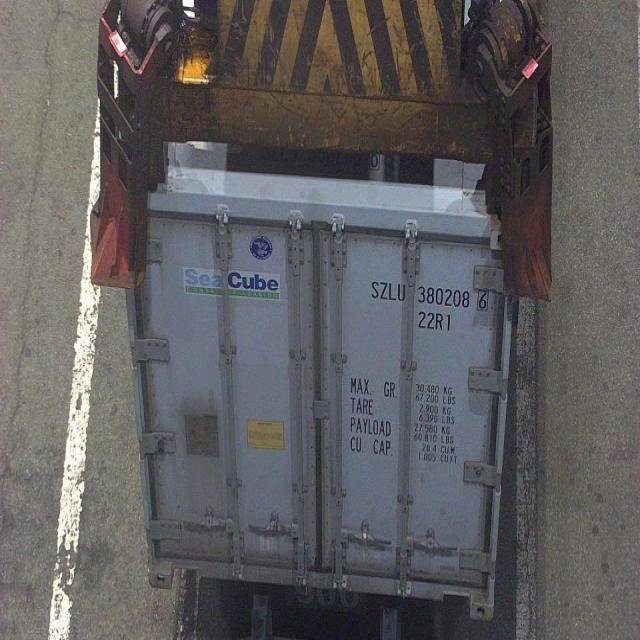ISO: (418, 311, 455, 332)
container_number: (372, 284, 489, 310)
